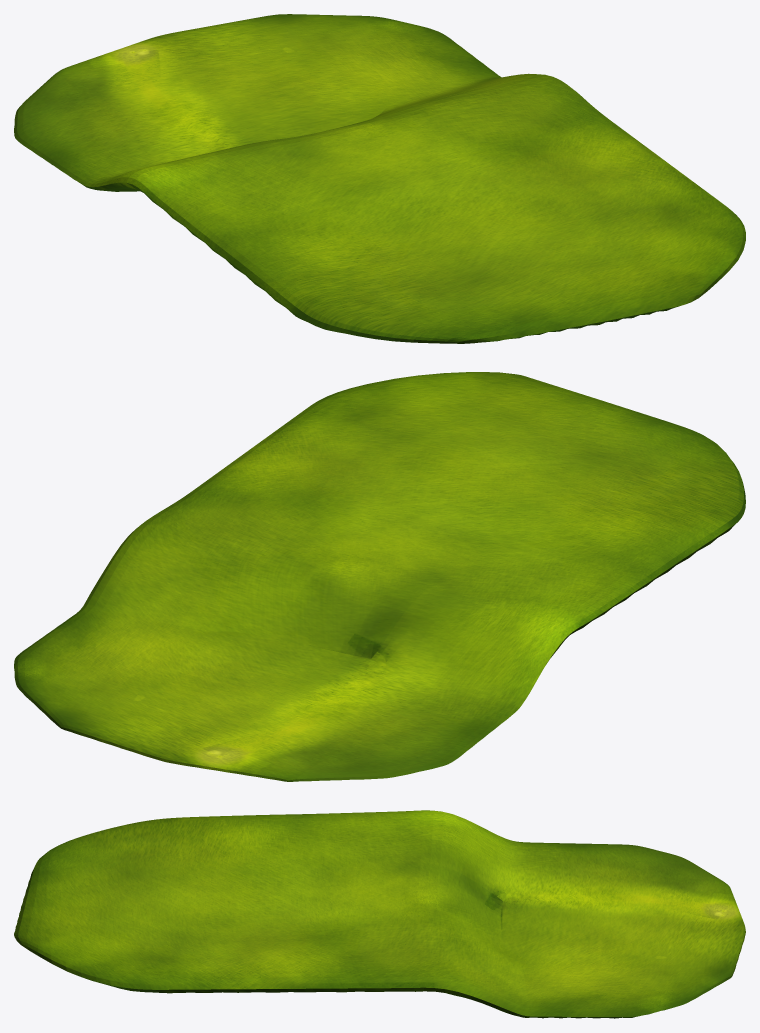
The model's file is GrassLand.fbx.
3 renders of one model, top to bottom at view 1: azimuth 30°, elevation 25°; view 2: azimuth 150°, elevation 25°; view 3: azimuth 270°, elevation 25°, orthographic. The views are drawn at different scales.
Visible parts, largest first — view 1: Grass; view 2: Grass; view 3: Grass.
Part boxes in pixels (bbox=[...]): Grass: bbox=[14, 14, 745, 343]; Grass: bbox=[14, 372, 745, 781]; Grass: bbox=[14, 810, 745, 1018].
Bounding box in the file's own units: 4010 × 483 × 7100.
